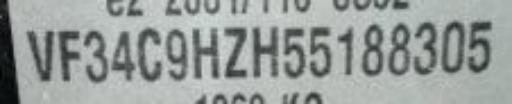letter: (188, 25, 222, 81), (24, 26, 56, 81), (108, 26, 138, 83), (222, 22, 250, 82), (252, 22, 280, 82), (54, 26, 84, 81), (466, 18, 494, 75), (386, 20, 414, 77), (162, 26, 190, 83), (136, 25, 164, 81), (82, 28, 110, 83), (440, 18, 466, 75), (306, 25, 332, 79), (358, 22, 384, 75), (412, 20, 436, 77), (281, 23, 305, 79), (335, 23, 357, 79)
